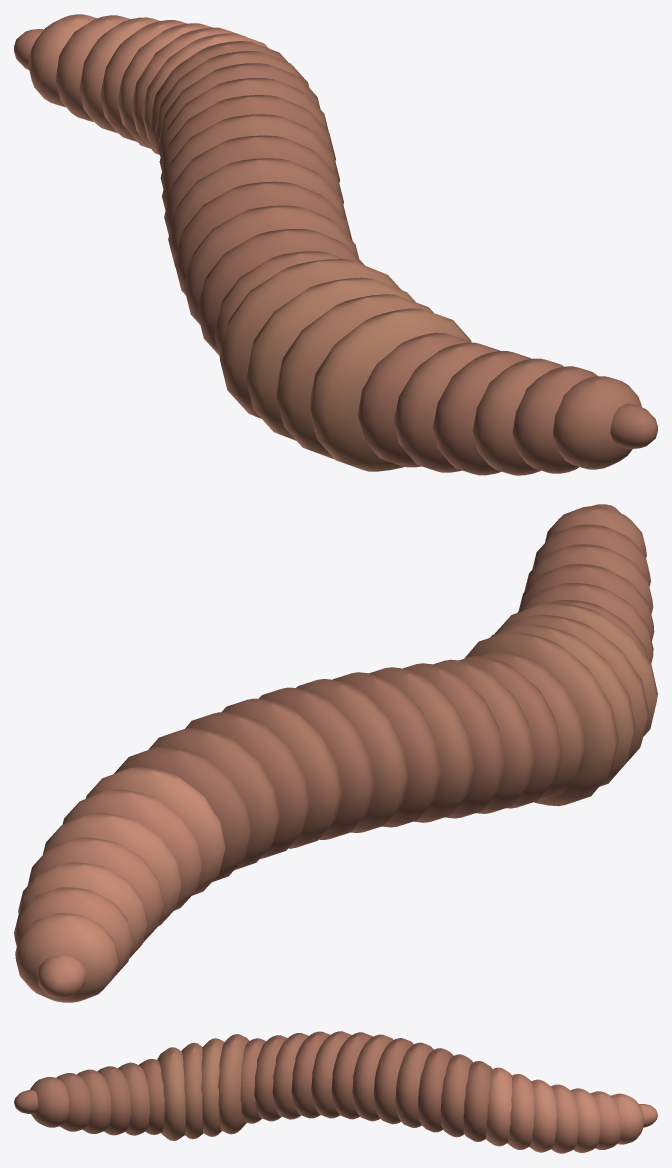
File: worm.glb
The picture shows the model from 3 angles, top to bottom: view 1: azimuth 30°, elevation 25°; view 2: azimuth 150°, elevation 25°; view 3: azimuth 270°, elevation 25°; orthographic projection. The views are drawn at different scales.
Visible parts, largest first — view 1: body, tail; view 2: body, tail; view 3: body, tail.
Part boxes in pixels (bbox=[...]): body: bbox=[150, 41, 657, 475]; tail: bbox=[14, 14, 268, 154]; body: bbox=[114, 504, 657, 882]; tail: bbox=[14, 767, 225, 1002]; body: bbox=[14, 1031, 492, 1141]; tail: bbox=[485, 1067, 657, 1153].
Size of the model in its own units: 0.7016 by 0.4488 by 2.38.
